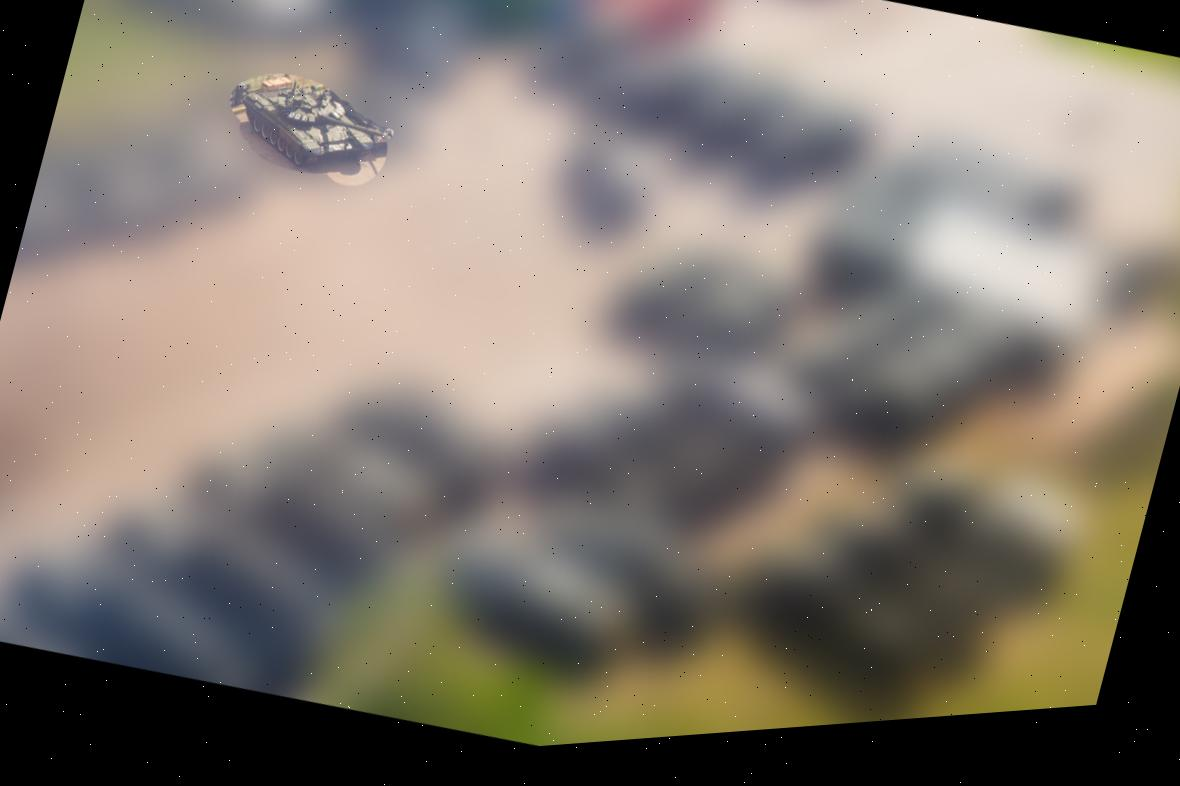tank: (213, 51, 403, 200)
